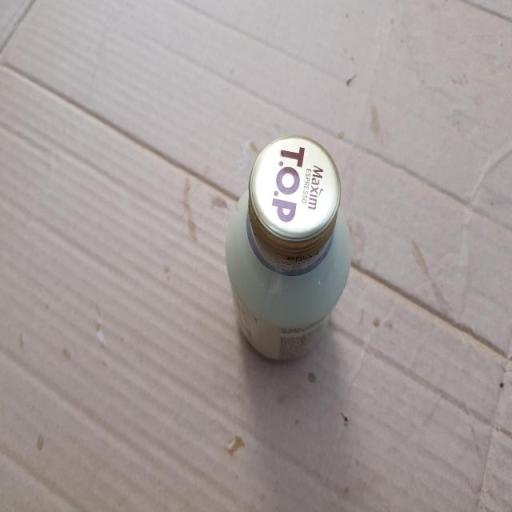metal: (212, 113, 366, 374)
